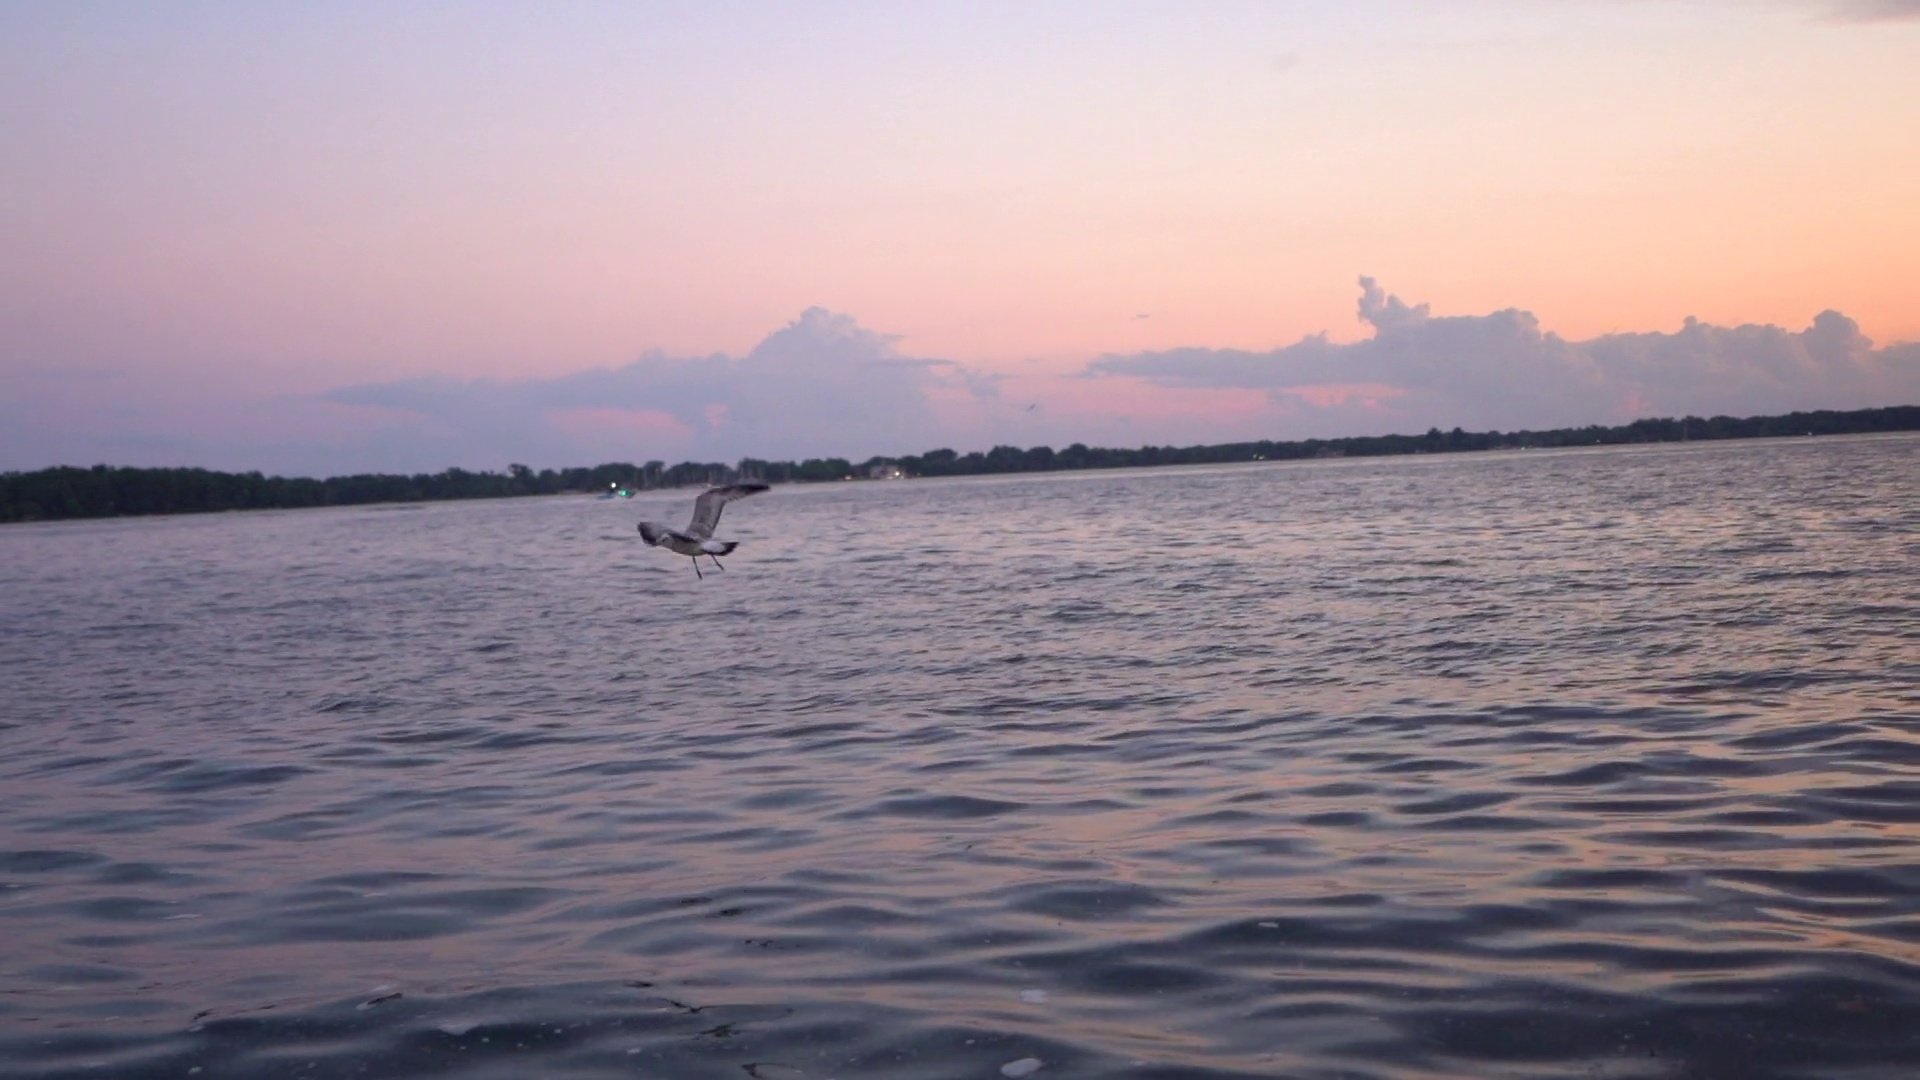bird: (636, 483, 770, 578)
